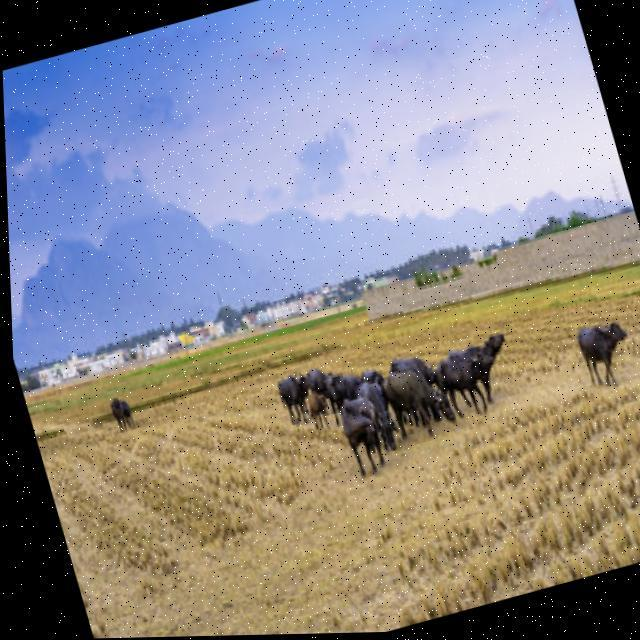Buffalo: (566, 310, 639, 383)
